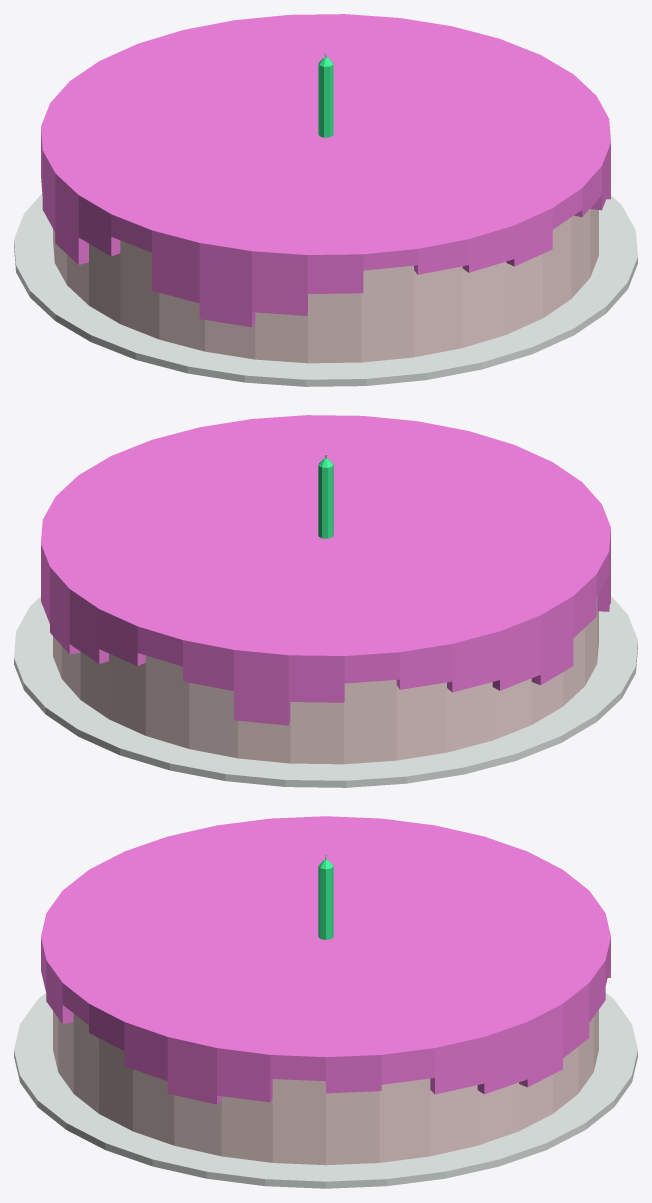
File: cake.glb
3 renders of one model, top to bottom at view 1: azimuth 30°, elevation 25°; view 2: azimuth 150°, elevation 25°; view 3: azimuth 270°, elevation 25°, orthographic.
Visible parts, largest first — view 1: Cylinder.001, Cylinder, Cylinder.002; view 2: Cylinder.001, Cylinder, Cylinder.002; view 3: Cylinder.001, Cylinder, Cylinder.002.
Boxes of the visible parts, <box> form: Cylinder.001: <box>41,14,610,363</box>; Cylinder: <box>14,193,637,386</box>; Cylinder.002: <box>318,52,333,137</box>; Cylinder.001: <box>41,415,610,764</box>; Cylinder: <box>14,596,637,787</box>; Cylinder.002: <box>318,453,333,538</box>; Cylinder.001: <box>41,816,610,1165</box>; Cylinder: <box>14,993,637,1188</box>; Cylinder.002: <box>318,855,333,939</box>.
Bounding box in the file's own units: 0.8 × 0.2864 × 0.8.
